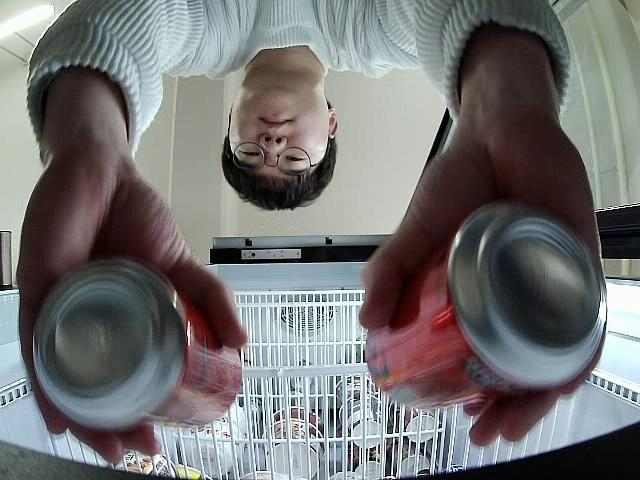11_cocaColaZero: (366, 200, 602, 413), (30, 256, 244, 436)
